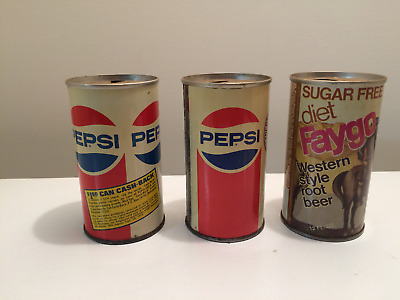Can: (59, 66, 174, 244), (281, 70, 387, 239), (178, 64, 270, 247)
